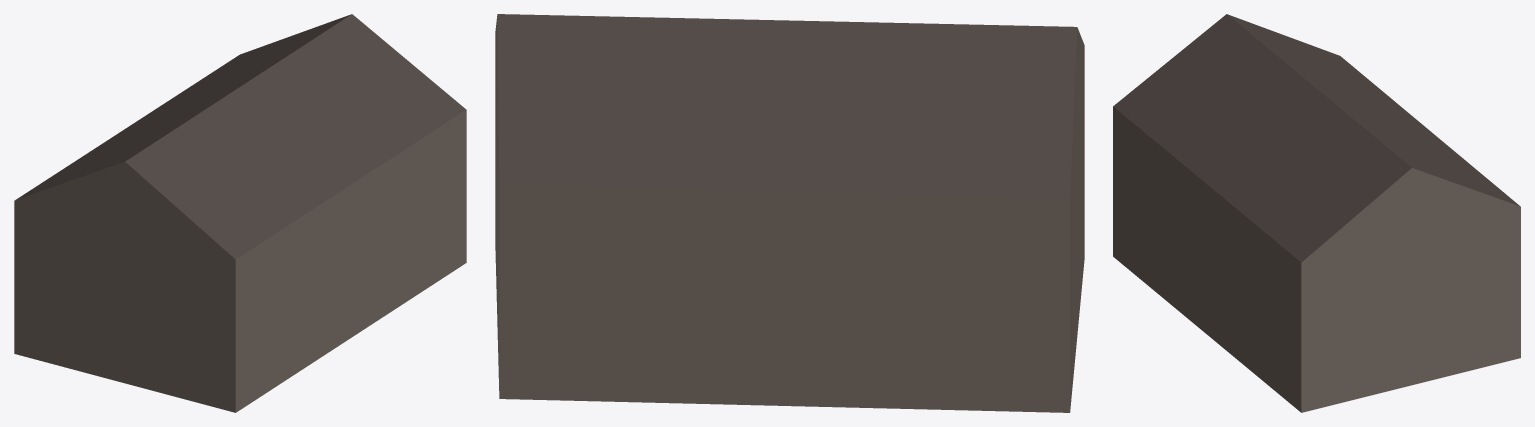
3 views of the same model, side by side, from view 1: azimuth 30°, elevation 25°; view 2: azimuth 150°, elevation 25°; view 3: azimuth 270°, elevation 25° (orthographic). The views are drawn at different scales.
Visible parts, largest first — view 1: HP-w369237922; view 2: HP-w369237922; view 3: HP-w369237922.
Part boxes in pixels (x1=…): HP-w369237922: x1=14, y1=14, x2=466, y2=412; HP-w369237922: x1=495, y1=14, x2=1084, y2=412; HP-w369237922: x1=1113, y1=14, x2=1520, y2=412.
Bounding box in the file's own units: 26.56 × 13.02 × 22.13.
